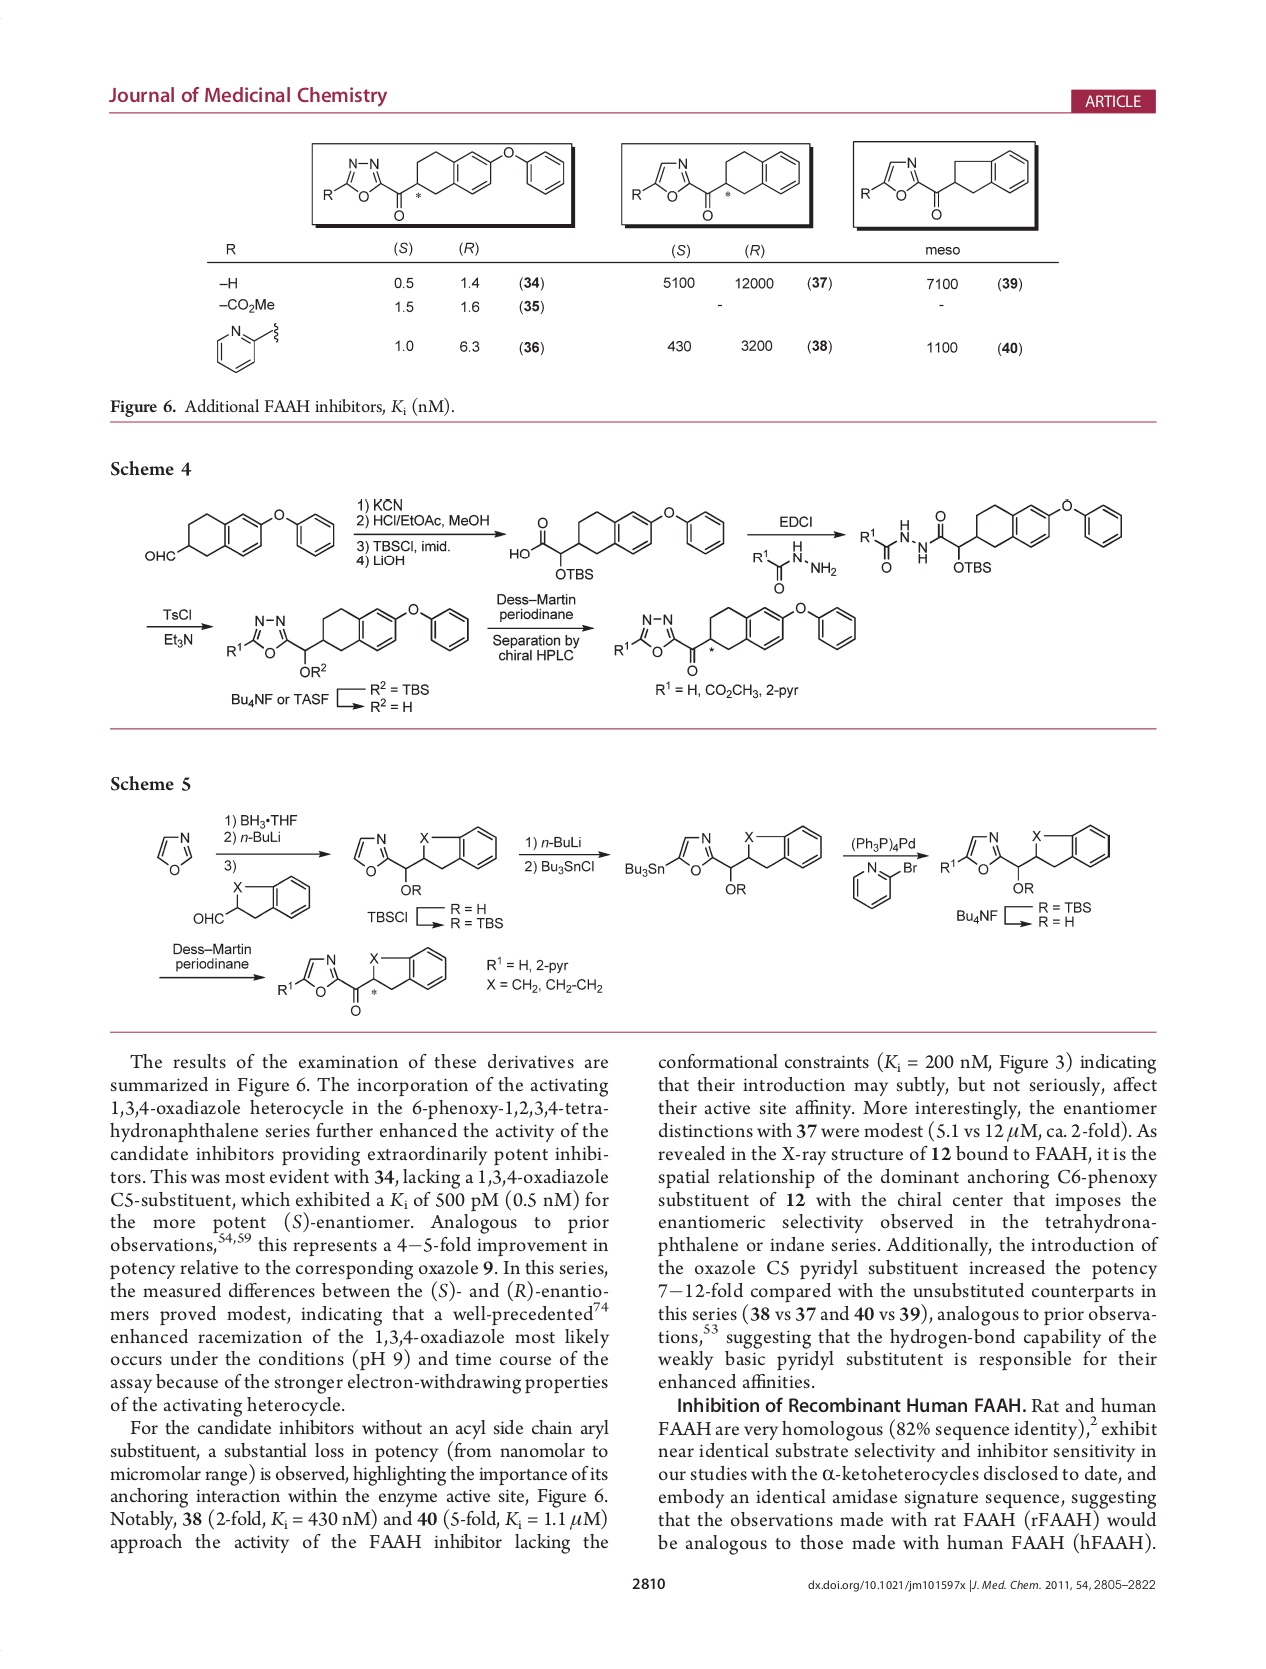exist_molecular: (854, 497, 1122, 577), (222, 601, 473, 681), (610, 600, 859, 680), (322, 146, 567, 222), (505, 504, 729, 584), (622, 822, 824, 898), (936, 821, 1114, 896), (140, 504, 338, 571), (856, 148, 1033, 222), (628, 148, 803, 222), (277, 946, 449, 1020), (348, 825, 501, 896), (191, 872, 316, 932), (749, 540, 840, 597), (211, 317, 282, 375), (848, 860, 919, 911), (152, 829, 197, 880)
